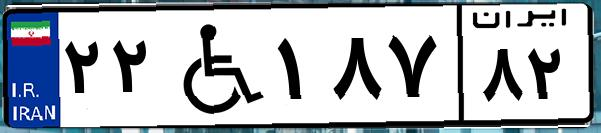1: (270, 28, 330, 110)
2: (57, 26, 110, 100), (525, 38, 570, 115), (110, 28, 158, 98)
7: (385, 28, 445, 110)
8: (330, 28, 385, 110), (475, 38, 525, 113)
ژ (معلولین و جانبازان): (158, 12, 270, 120)
